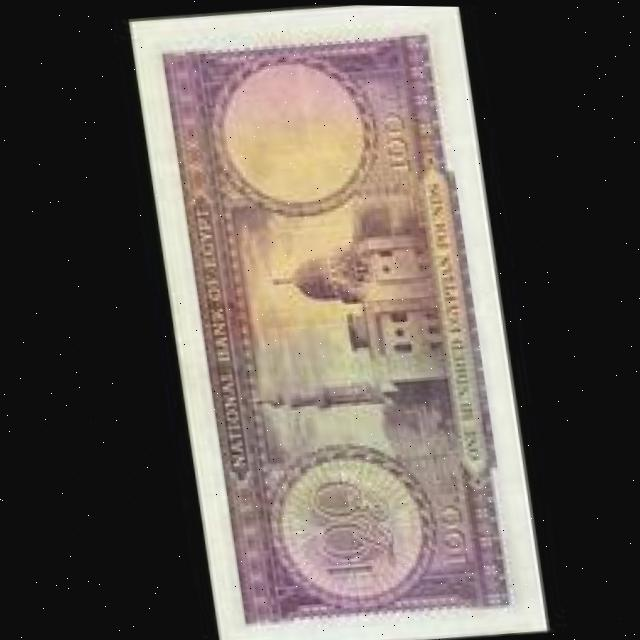banknote: (121, 1, 542, 640)
